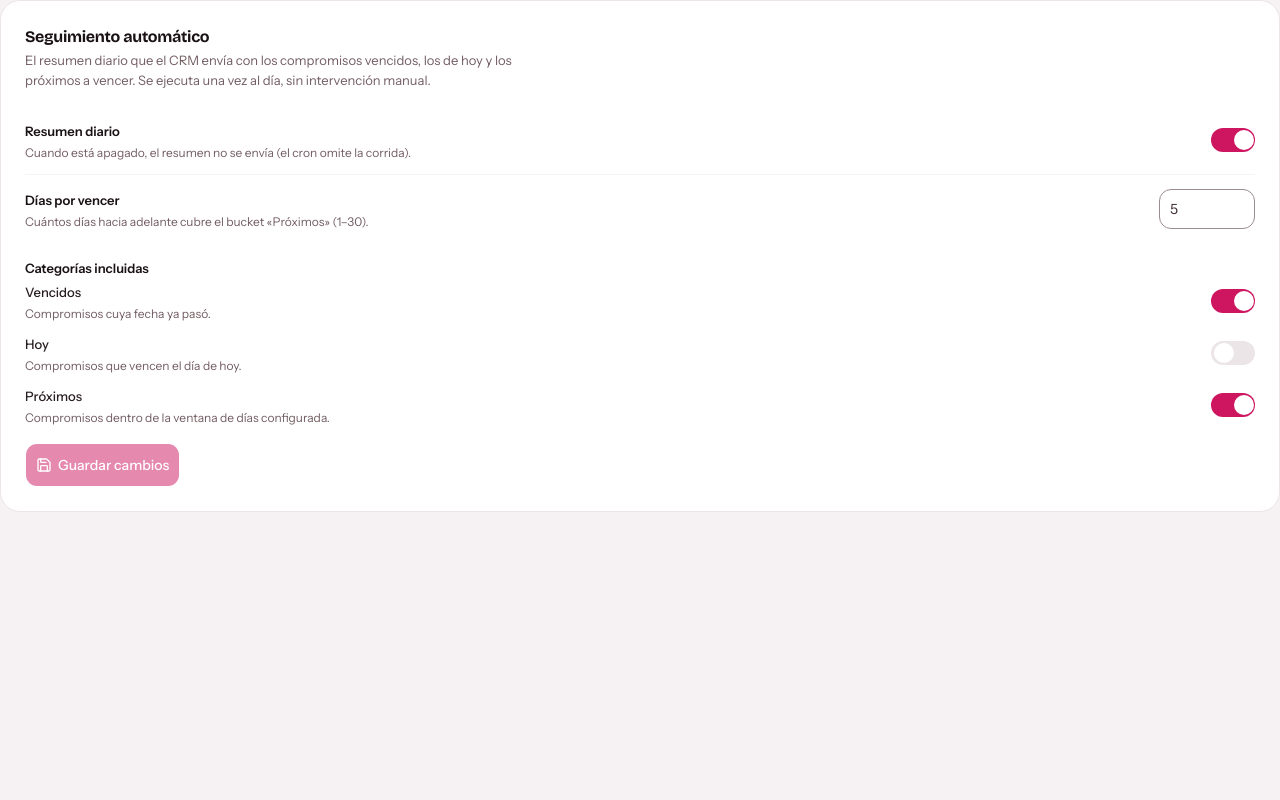
Test: AutomatizacionesVista — administrador › blocks an out-of-range ventana de días without writing
Replace the text in the number field named "Días por vencer" with "0": (1207,209) [1159,189,1255,229]
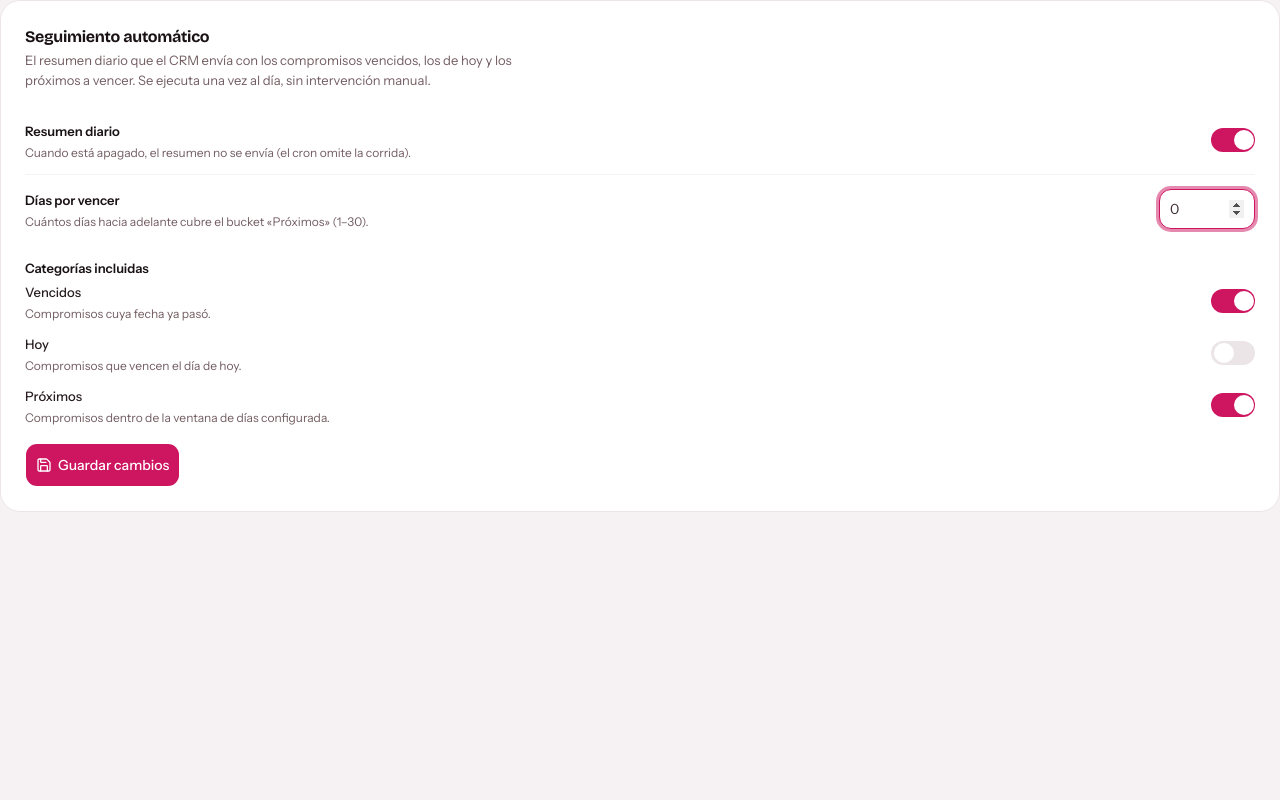
Click the button "Guardar cambios": (103,464) [25,442,180,486]
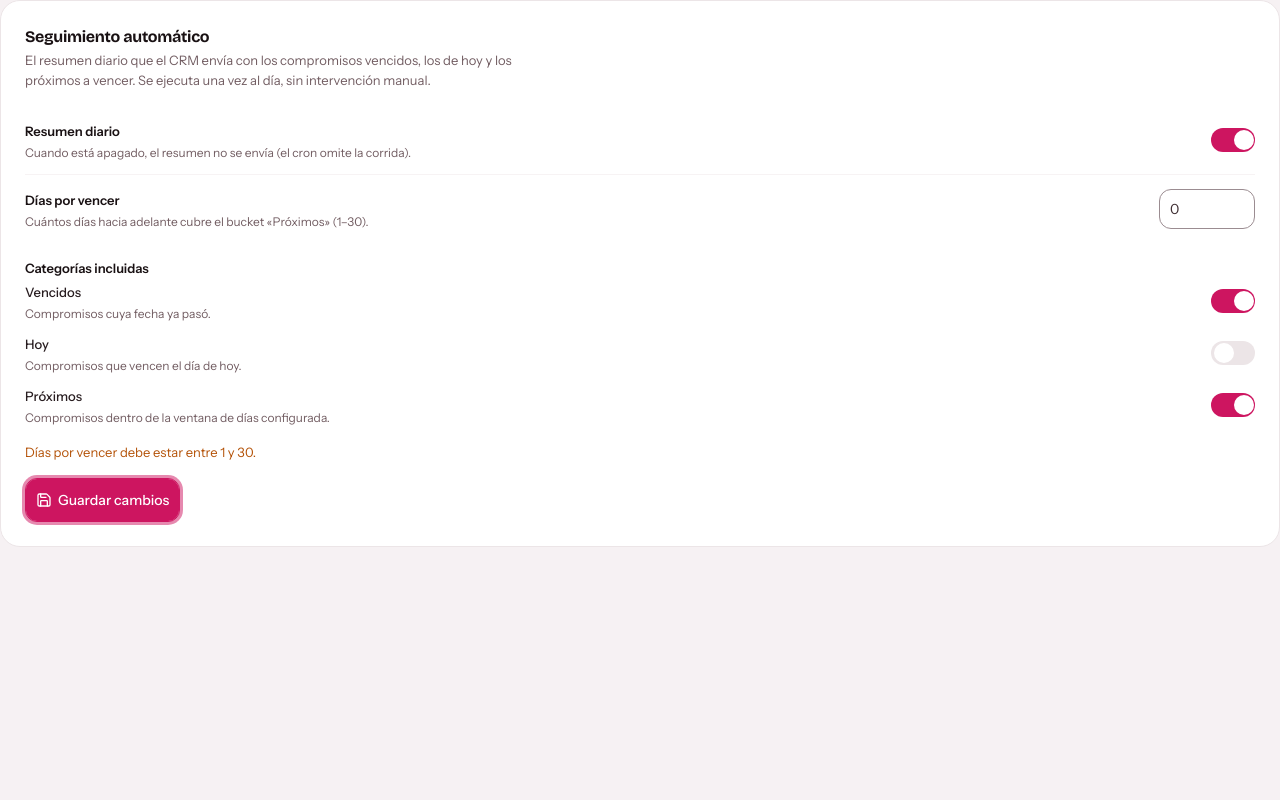
Expected: the message shows "entre 1 y 30", [25,444,256,460]
